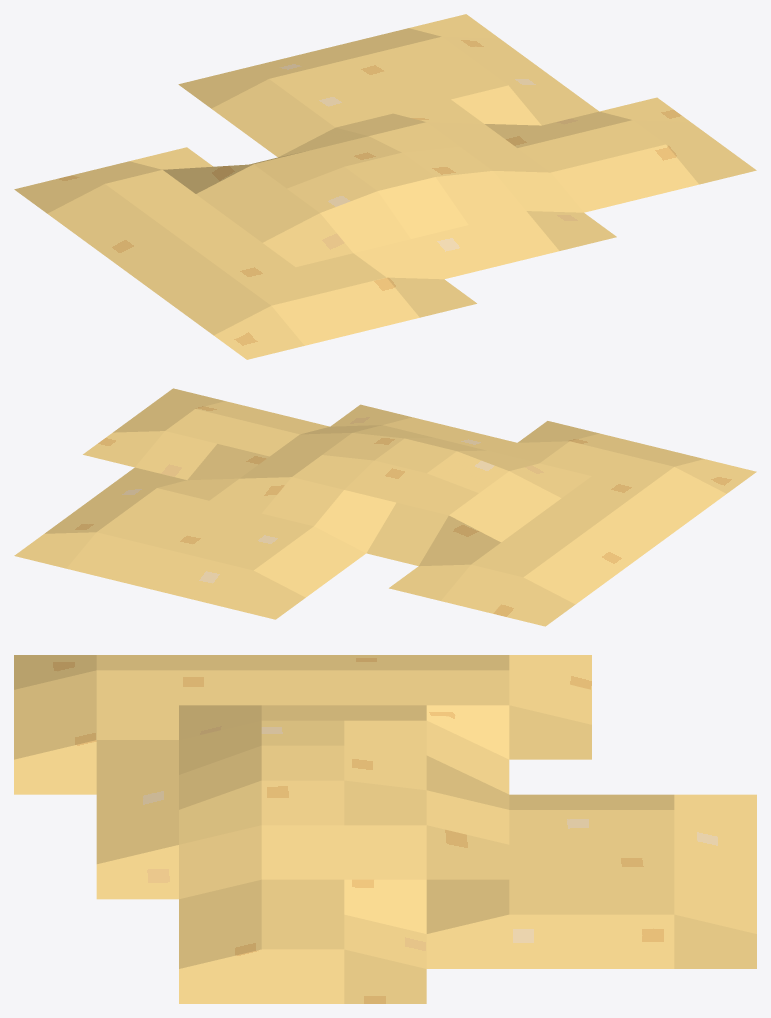
Rendered from sandPile.obj.
3 renders of one model, top to bottom at view 1: azimuth 30°, elevation 25°; view 2: azimuth 150°, elevation 25°; view 3: azimuth 270°, elevation 25°, orthographic. The views are drawn at different scales.
Parts seen in each view (by area): view 1: plane; view 2: plane; view 3: plane.
Boxes of the visible parts, <box> form: plane: <box>14,14,756,359</box>; plane: <box>14,388,756,626</box>; plane: <box>14,655,756,1003</box>.
Size of the model in its own units: 2.39 by 0.1562 by 2.15.
1 material, 1 textured.
